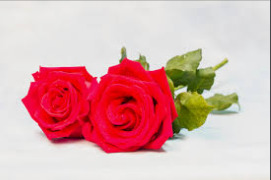RedRose: (89, 57, 178, 156), (19, 60, 99, 146)
